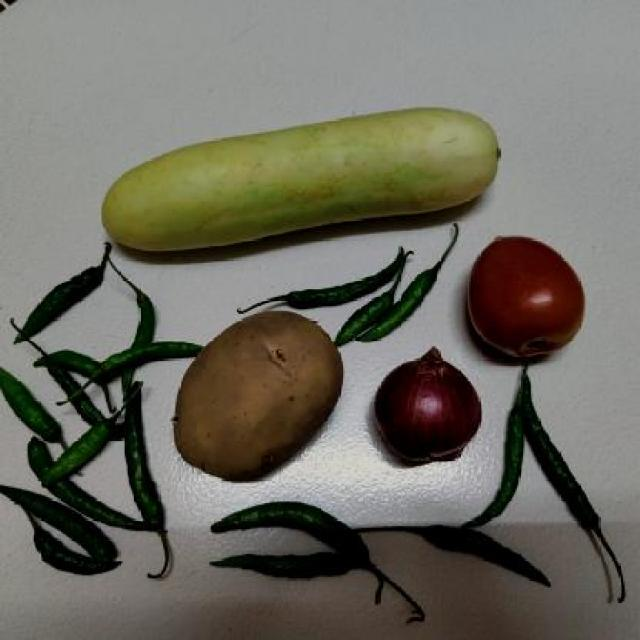Green Chili: (481, 362, 640, 615), (2, 349, 170, 580), (212, 491, 376, 614), (356, 506, 550, 600), (0, 248, 120, 346)
Potato: (176, 309, 350, 483)
Tomato: (462, 229, 590, 360)
cucumber: (84, 100, 510, 248)
